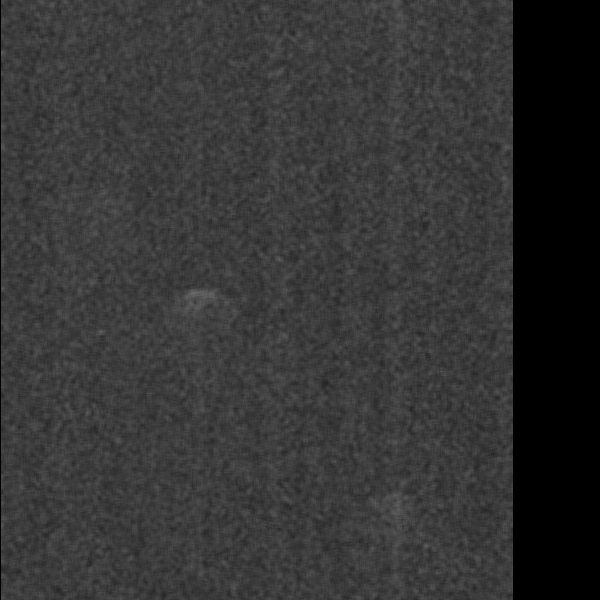spark: (183, 284, 231, 320), (379, 490, 405, 546)
